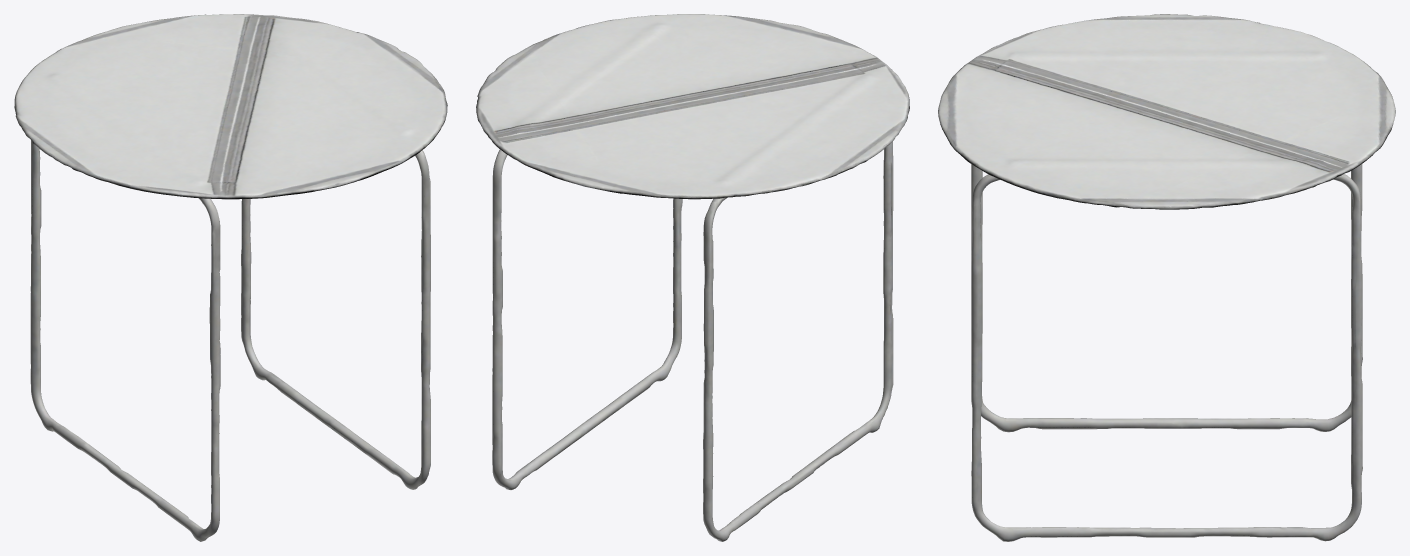
The picture shows the model from 3 angles, left to right: view 1: azimuth 30°, elevation 25°; view 2: azimuth 150°, elevation 25°; view 3: azimuth 270°, elevation 25°; orthographic projection. The views are drawn at different scales.
Size of the model in its own units: 1.99 by 1.81 by 1.99.
1 material, 1 textured.
